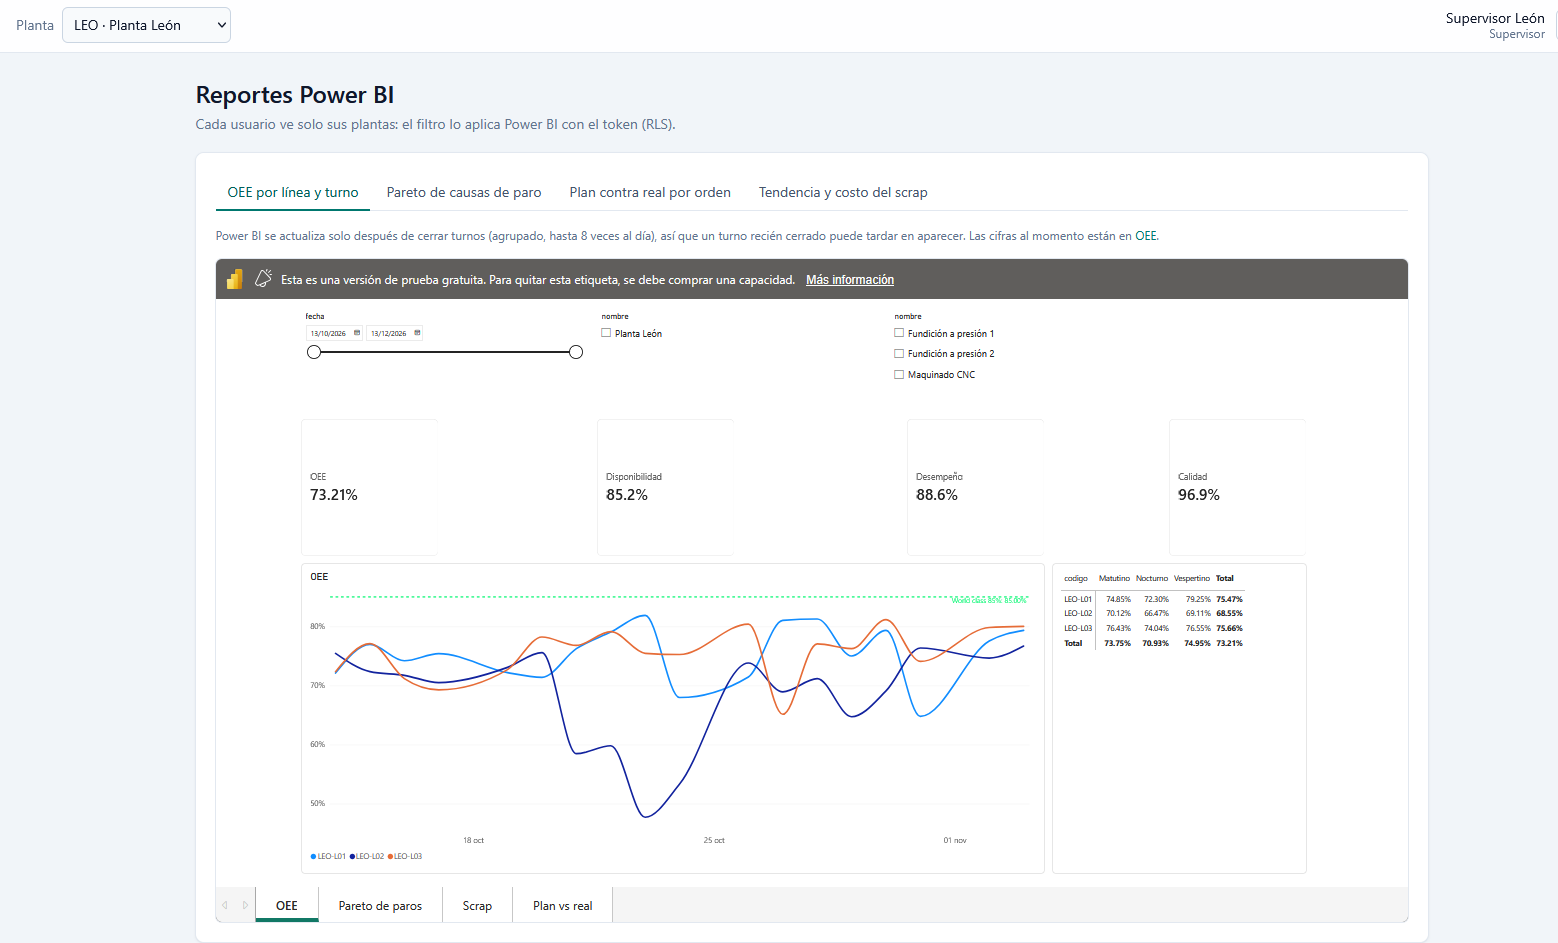

This screenshot's page, from the dashboard's own definition file:
{"tool":"powerbi","page":{"name":"OEE","canvas":[1920,1080],"ordinal":0},"visuals":[{"type":"cardVisual","fields":{"Data":["_Medidas.OEE"]},"box":[20,220,252,252],"z":0},{"type":"cardVisual","fields":{"Data":["_Medidas.Disponibilidad"]},"box":[564,220,252,252],"z":1},{"type":"cardVisual","fields":{"Data":["_Medidas.Desempeño"]},"box":[1136,220,252,252],"z":2},{"type":"cardVisual","fields":{"Data":["_Medidas.Calidad"]},"box":[1618,220,252,252],"z":3},{"type":"pivotTable","fields":{"Columns":["bi dim_turno.nombre"],"Rows":["bi dim_linea.codigo"],"Values":["_Medidas.OEE"]},"box":[1402,486,468,572],"z":4},{"type":"lineChart","title":"OEE","fields":{"Category":["bi dim_fecha.fecha"],"Series":["bi dim_linea.codigo"],"Y":["_Medidas.OEE"]},"box":[20,486,1368,572],"z":5},{"type":"slicer","fields":{"Values":["bi dim_planta.nombre"]},"box":[564,22,522,182],"z":6},{"type":"slicer","fields":{"Values":["bi dim_fecha.fecha"]},"box":[20,22,522,182],"z":7},{"type":"slicer","fields":{"Values":["bi dim_linea.nombre"]},"box":[1104,22,284,182],"z":8}]}

Visuals, with their boxes on the page's 1920x1080 design canvas (x1, y1, x2, y2). These are canvas units, not pixel positions in the 1558x943 screenshot, which may show the page scaled, cropped or inside an application window:
cardVisual - _Medidas.OEE: 20,220,272,472
cardVisual - _Medidas.Disponibilidad: 564,220,816,472
cardVisual - _Medidas.Desempeño: 1136,220,1388,472
cardVisual - _Medidas.Calidad: 1618,220,1870,472
pivotTable - bi dim_turno.nombre x bi dim_linea.codigo: 1402,486,1870,1058
"OEE" lineChart: 20,486,1388,1058
slicer - bi dim_planta.nombre: 564,22,1086,204
slicer - bi dim_fecha.fecha: 20,22,542,204
slicer - bi dim_linea.nombre: 1104,22,1388,204
